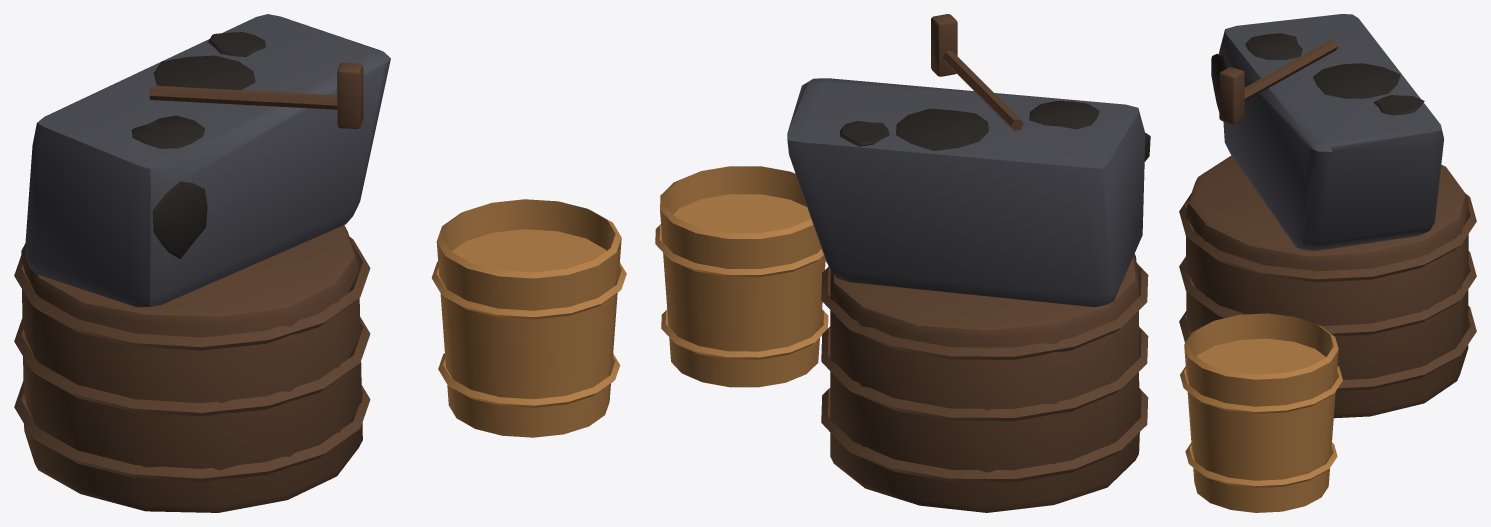
File: nomad_smithy_decor.fbx
3 views of the same model, side by side, from view 1: azimuth 30°, elevation 25°; view 2: azimuth 150°, elevation 25°; view 3: azimuth 270°, elevation 25° (orthographic). The views are drawn at different scales.
Visible parts, largest first — view 1: C__AnvilStone__01; view 2: C__AnvilStone__01; view 3: C__AnvilStone__01.
Part boxes in pixels (bbox=[...]): C__AnvilStone__01: bbox=[14, 14, 626, 512]; C__AnvilStone__01: bbox=[655, 14, 1150, 512]; C__AnvilStone__01: bbox=[1179, 14, 1476, 512].
Bounding box in the file's own units: 206 × 147 × 118.
